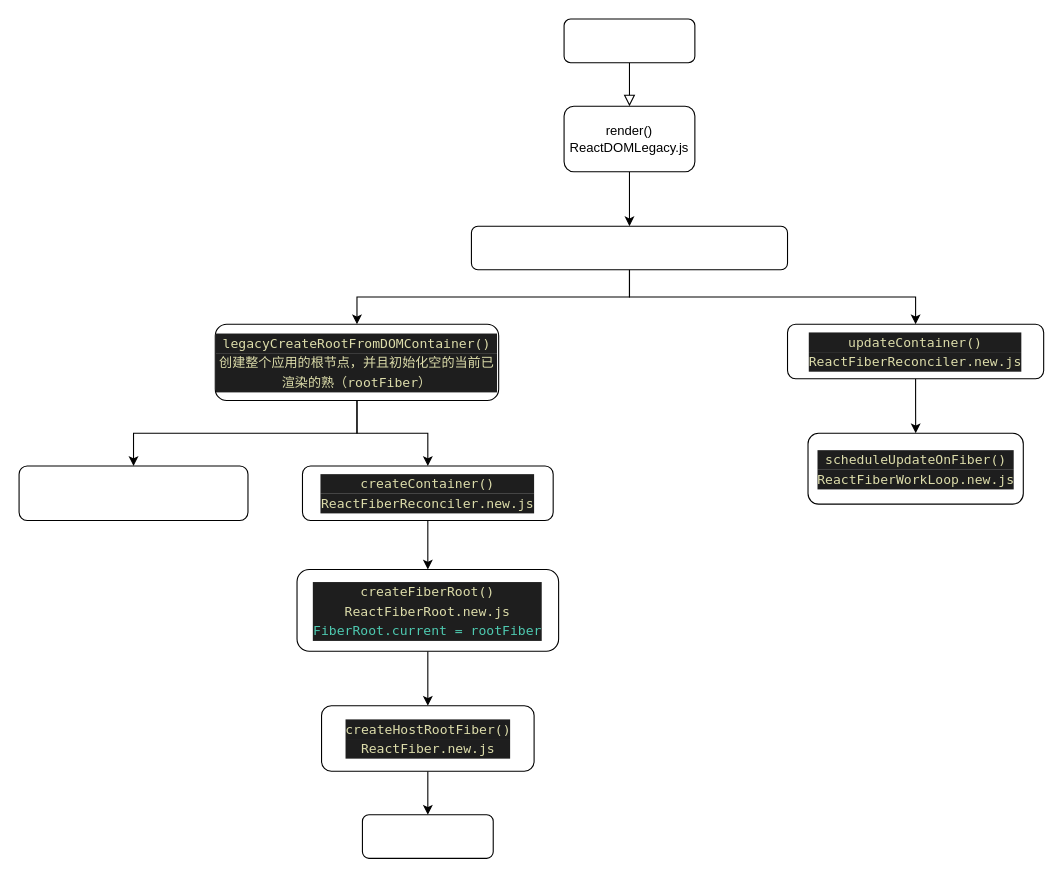
Image size: 1063x877. Some labels were removed from this diagram. The shapes that lost their labels are listed below. From the top down, each one's centre as x and y in pixels, then its label:
[629,40]: ReactDom.render
[629,247]: legacyRenderSubtreeIntoContainer()
[133,492]: listenToAllSupportedEvents()
[427,836]: createFiber()
